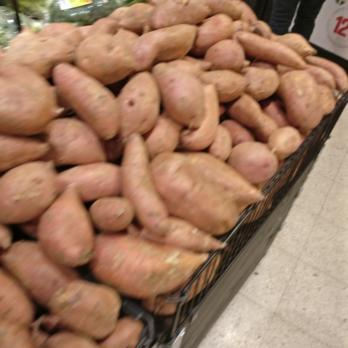Sweet potato: (0, 32, 101, 348), (103, 10, 216, 253), (223, 1, 279, 172), (282, 26, 333, 123), (213, 175, 256, 227), (104, 296, 142, 348), (262, 125, 301, 153)
